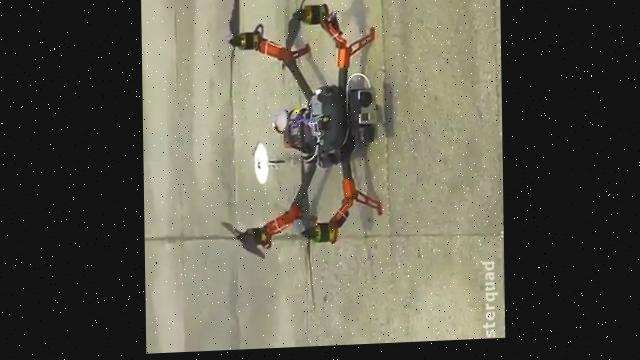drone: (213, 0, 386, 318)
